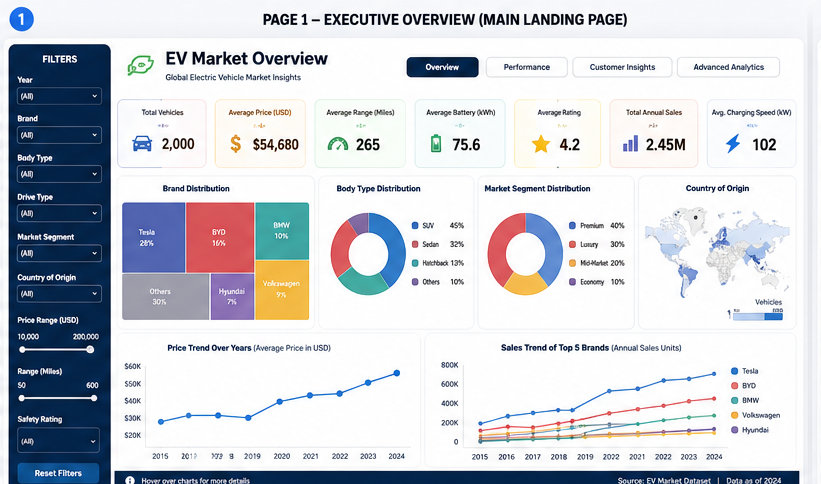

Layout of this report page (visuals, bound fields, positions):
{"tool":"powerbi","page":{"name":"Overview","canvas":[1280,720],"ordinal":0},"visuals":[{"type":"textbox","box":[0,6.5,1271.1,58.3],"z":0},{"type":"shape","box":[0,0,183,717.3],"z":1000},{"type":"treemap","title":"Brand Distribution","fields":{"Group":["ev_market_2026.brand"],"Values":["CountNonNull(ev_market_2026.Row_Id)"]},"box":[181.4,199.2,372.4,249.4],"z":5000},{"type":"cardVisual","title":"Average Price(USD)","fields":{"Data":["Measures_Table.Avg_Price"]},"box":[392.3,118,211.1,74.2],"z":6000},{"type":"cardVisual","title":"Average Range","fields":{"Data":["Measures_Table.Avg_range"]},"box":[616.5,118,209.6,74.2],"z":7000},{"type":"cardVisual","title":"Total Vehicles","fields":{"Data":["Measures_Table.Total_cars"]},"box":[182.4,118.5,199.1,72.9],"z":12000},{"type":"cardVisual","title":"Average Rating","fields":{"Data":["Measures_Table.Avg_rating"]},"box":[840.4,119.8,208.9,72.9],"z":13000},{"type":"donutChart","title":"Body Type Distribution","fields":{"Category":["ev_market_2026.body_type"],"Y":["CountNonNull(ev_market_2026.Row_Id)"]},"box":[561.9,198.7,352,249.4],"z":15000},{"type":"textbox","box":[14.6,29.1,136,51.8],"z":16000},{"type":"pieChart","title":"Market Segment Distribution","fields":{"Y":["CountNonNull(ev_market_2026.Row_Id)"],"Category":["ev_market_2026.market_segment"]},"box":[922.8,200.4,348.1,249.4],"z":17000},{"type":"image","box":[147.3,3.2,244.5,103.6],"z":22000},{"type":"shape","box":[1.6,0,1279.2,717.3],"z":23000},{"type":"slicer","title":"Country of Origin","fields":{"Values":["ev_market_2026.country_of_origin"]},"box":[14.6,349.8,149,98.8],"z":23062},{"type":"pageNavigator","box":[696.3,71.2,574.8,38.9],"z":23093},{"type":"filledMap","title":"Country of Origin","fields":{"Category":["ev_market_2026.Country_iso"]},"box":[730.3,456.6,540.8,254.2],"z":23125},{"type":"slicer","title":"Range(Miles)","fields":{"Values":["ev_market_2026.price_usd"]},"box":[1.6,563.5,183,106.9],"z":23156},{"type":"slicer","title":"Price Range(USD)","fields":{"Values":["ev_market_2026.price_usd"]},"box":[0,456.6,183,106.9],"z":23187},{"type":"slicer","title":"Body Type","fields":{"Values":["ev_market_2026.body_type"]},"box":[14.6,248.9,148.5,77.1],"z":23250},{"type":"cardVisual","title":"Total Sales(USD)","fields":{"Data":["Measures_Table.Total_sales"]},"box":[1062.2,119.8,208.9,72.9],"z":23312},{"type":"hundredPercentStackedColumnChart","title":"Sales over Years","fields":{"Category":["ev_market_2026.year"],"Y":["Sum(ev_market_2026.price_usd)"],"Series":["ev_market_2026.brand"]},"box":[181.4,456.6,540.8,255],"z":23375},{"type":"slicer","title":"Year","fields":{"Values":["ev_market_2026.year"]},"box":[14.6,84.4,148.5,72.8],"z":23500},{"type":"slicer","title":"Brand","fields":{"Values":["ev_market_2026.brand"]},"box":[14.6,163,148.5,72.8],"z":24000}]}

Visuals, with their boxes on the page's 1280x720 design canvas (x1, y1, x2, y2). These are canvas units, not pixel positions in the 821x484 screenshot, which may show the page scaled, cropped or inside an application window:
textbox: box(0, 6, 1271, 65)
shape: box(0, 0, 183, 717)
"Brand Distribution" treemap: box(181, 199, 554, 449)
"Average Price(USD)" cardVisual: box(392, 118, 603, 192)
"Average Range" cardVisual: box(616, 118, 826, 192)
"Total Vehicles" cardVisual: box(182, 118, 382, 191)
"Average Rating" cardVisual: box(840, 120, 1049, 193)
"Body Type Distribution" donutChart: box(562, 199, 914, 448)
textbox: box(15, 29, 151, 81)
"Market Segment Distribution" pieChart: box(923, 200, 1271, 450)
image: box(147, 3, 392, 107)
shape: box(2, 0, 1281, 717)
"Country of Origin" slicer: box(15, 350, 164, 449)
pageNavigator: box(696, 71, 1271, 110)
"Country of Origin" filledMap: box(730, 457, 1271, 711)
"Range(Miles)" slicer: box(2, 564, 185, 670)
"Price Range(USD)" slicer: box(0, 457, 183, 564)
"Body Type" slicer: box(15, 249, 163, 326)
"Total Sales(USD)" cardVisual: box(1062, 120, 1271, 193)
"Sales over Years" hundredPercentStackedColumnChart: box(181, 457, 722, 712)
"Year" slicer: box(15, 84, 163, 157)
"Brand" slicer: box(15, 163, 163, 236)
